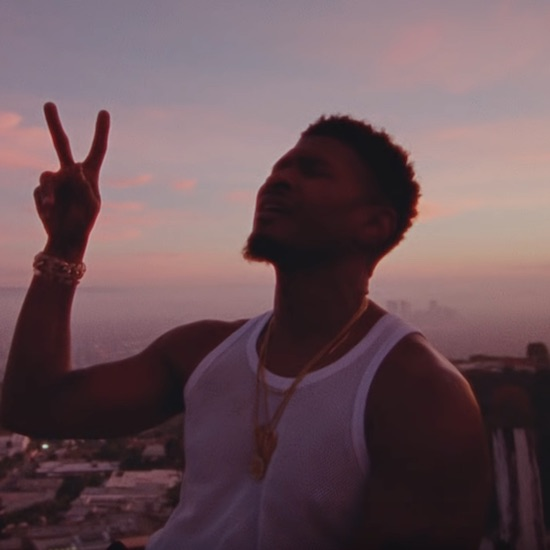peacesign: (24, 96, 115, 249)
